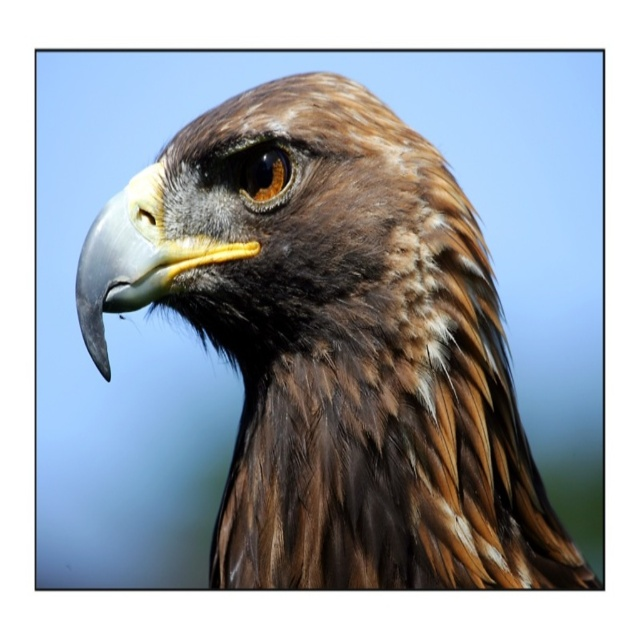Eagle: (70, 71, 609, 590)
